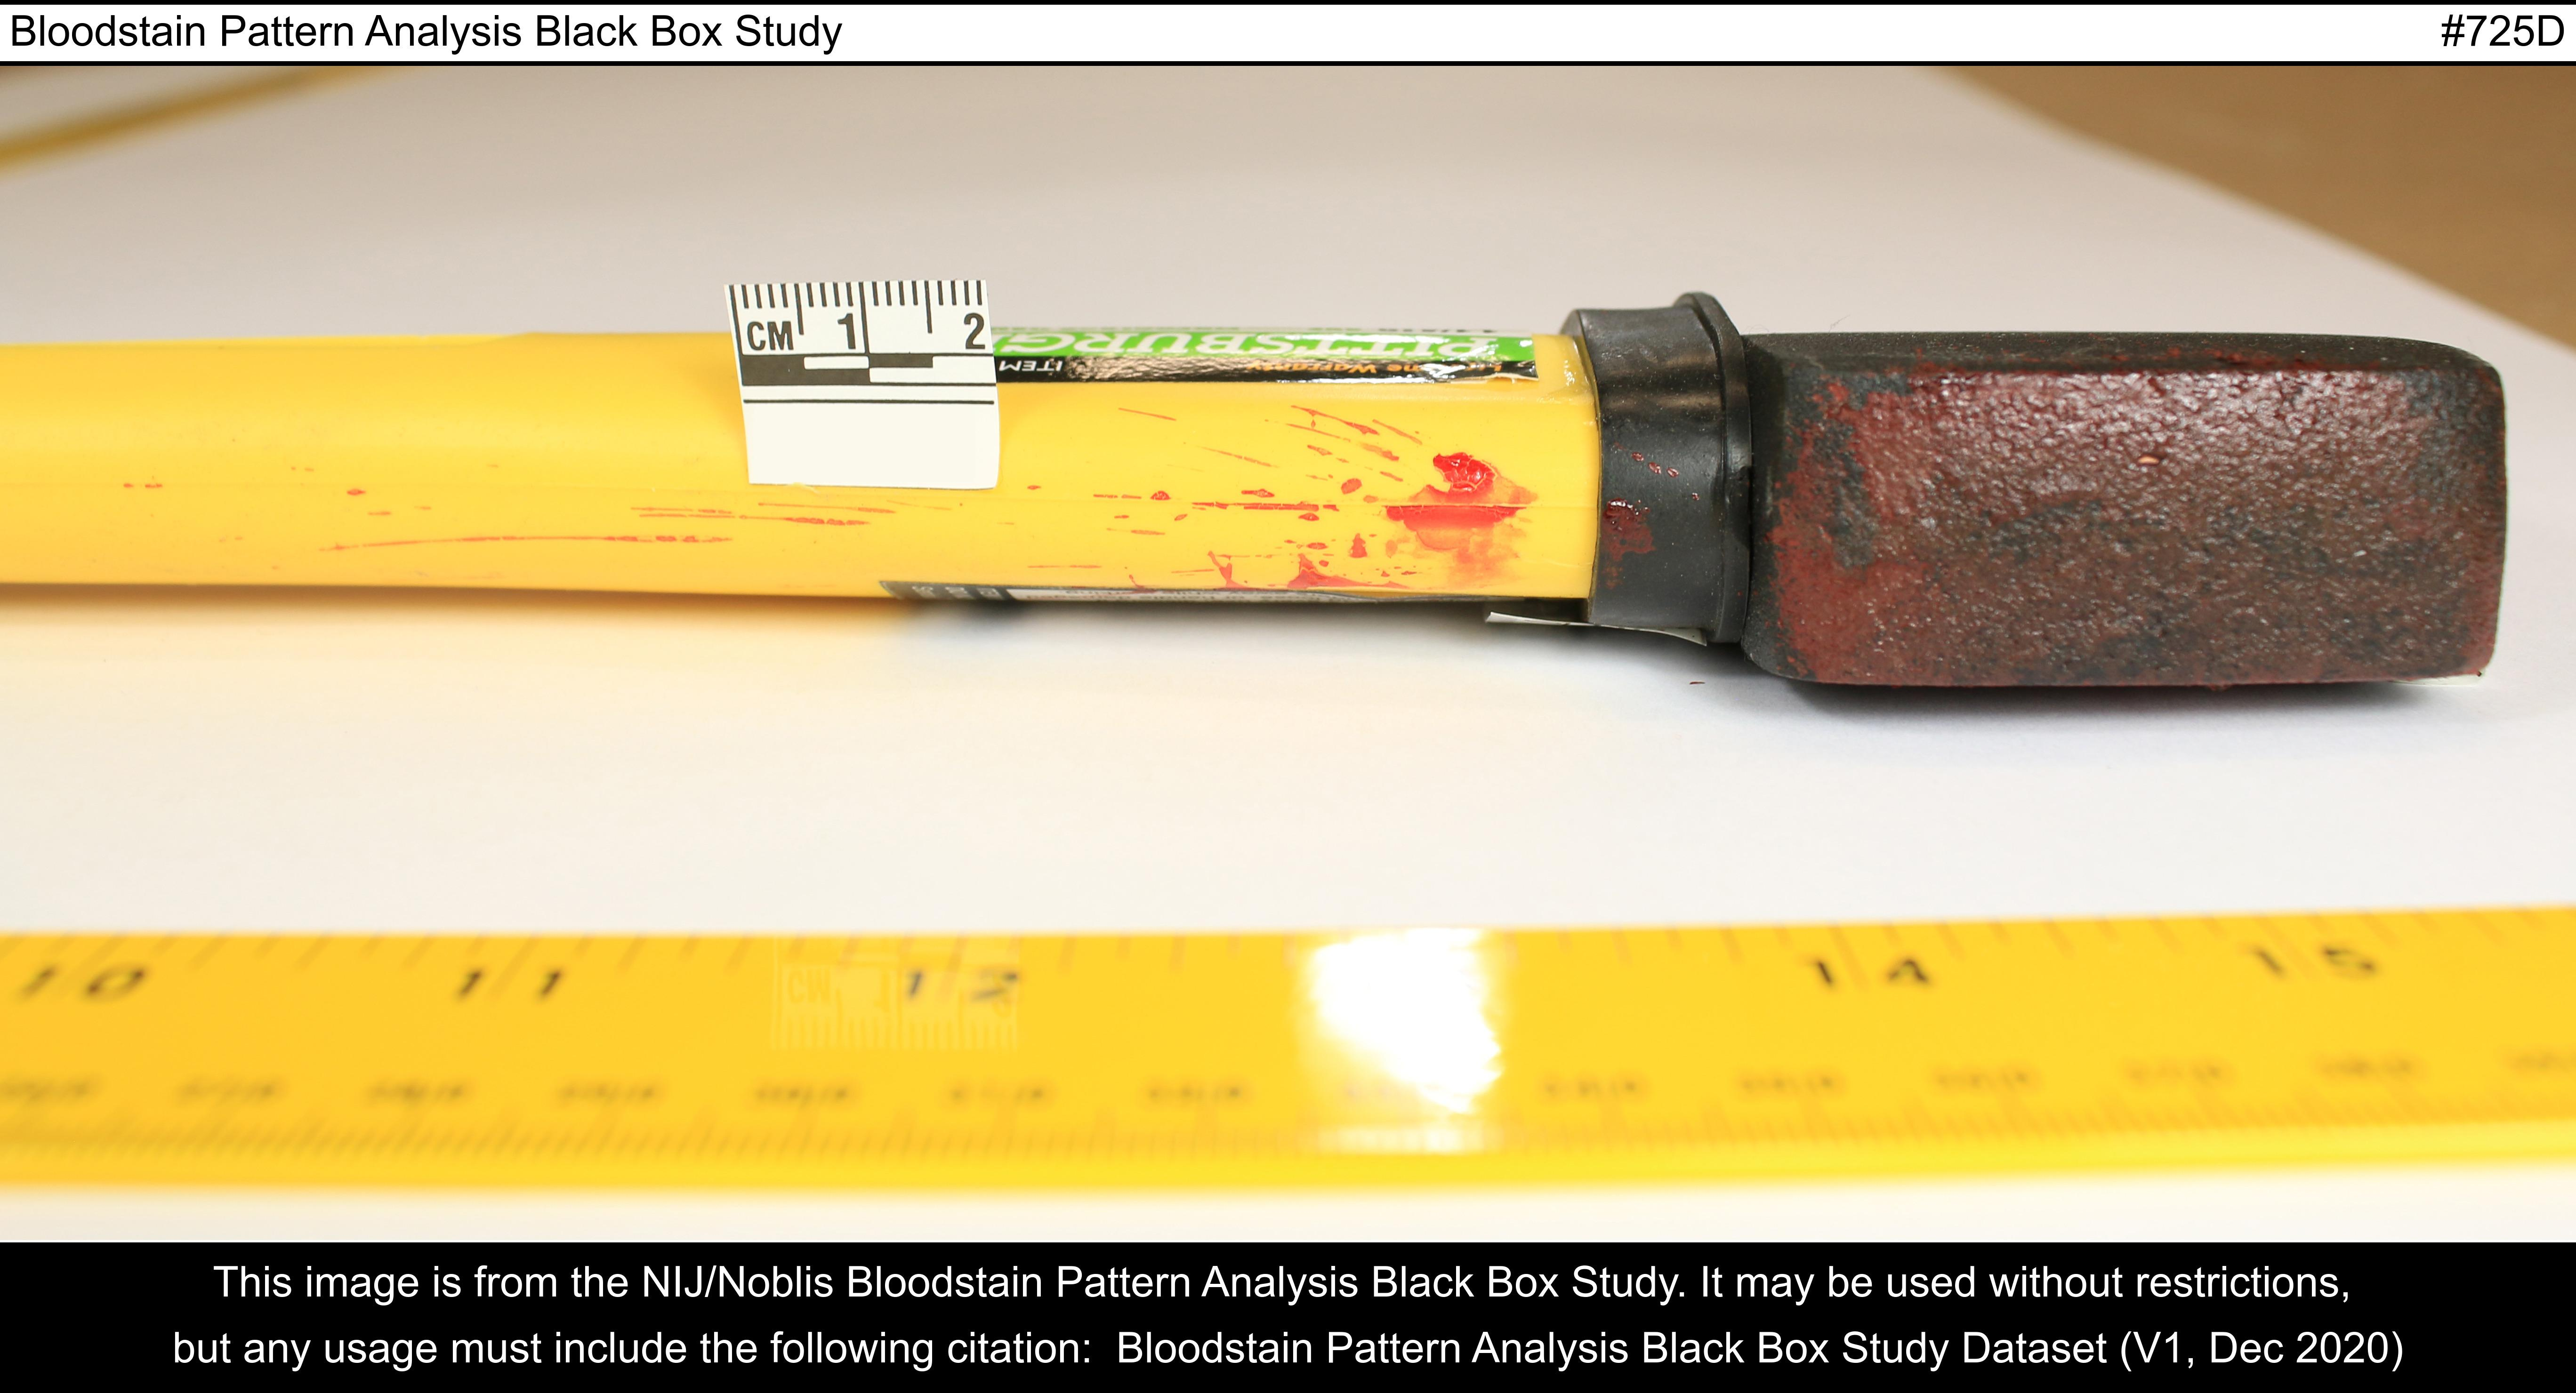Impact: (1818, 362, 2477, 679)
Passive: (1113, 395, 1568, 594)
